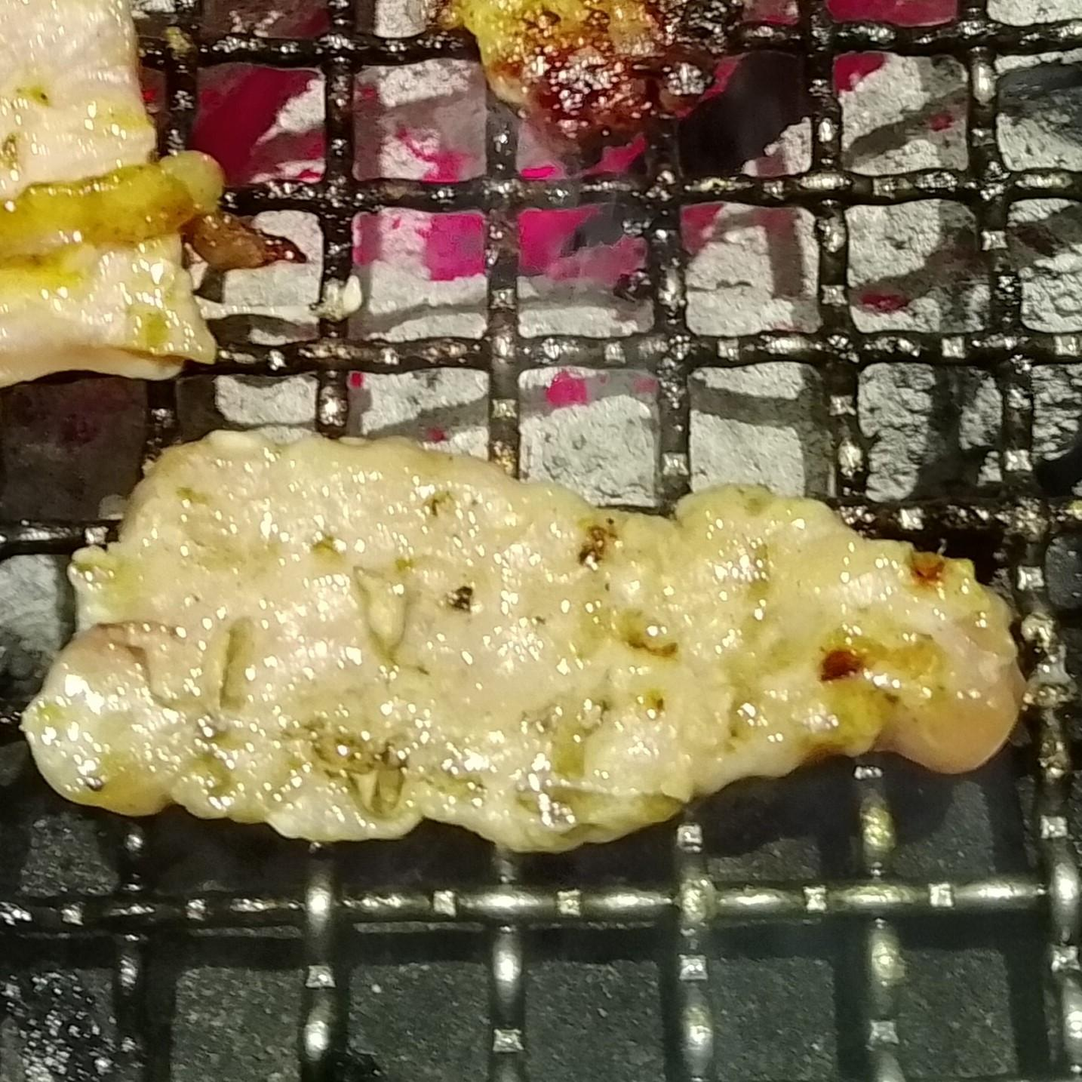Overcooked: (469, 0, 729, 157)
Well-Cooked: (18, 429, 1028, 857), (0, 0, 252, 393)
